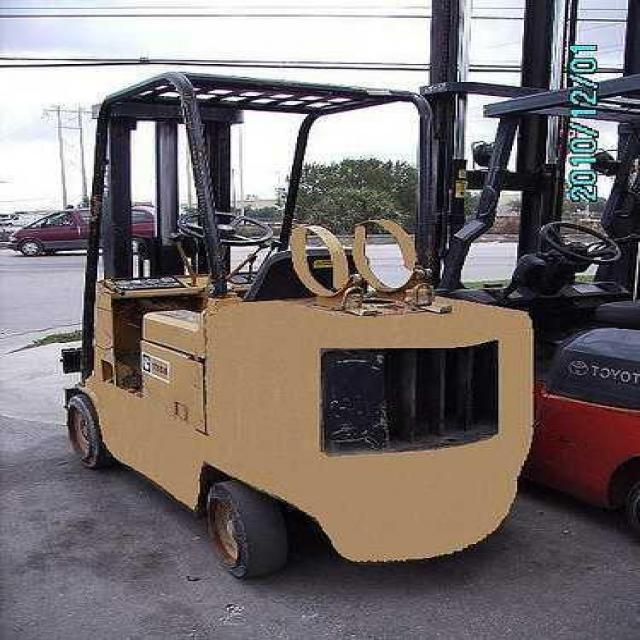Chariot elevateur: (60, 70, 536, 578), (420, 74, 638, 542)
